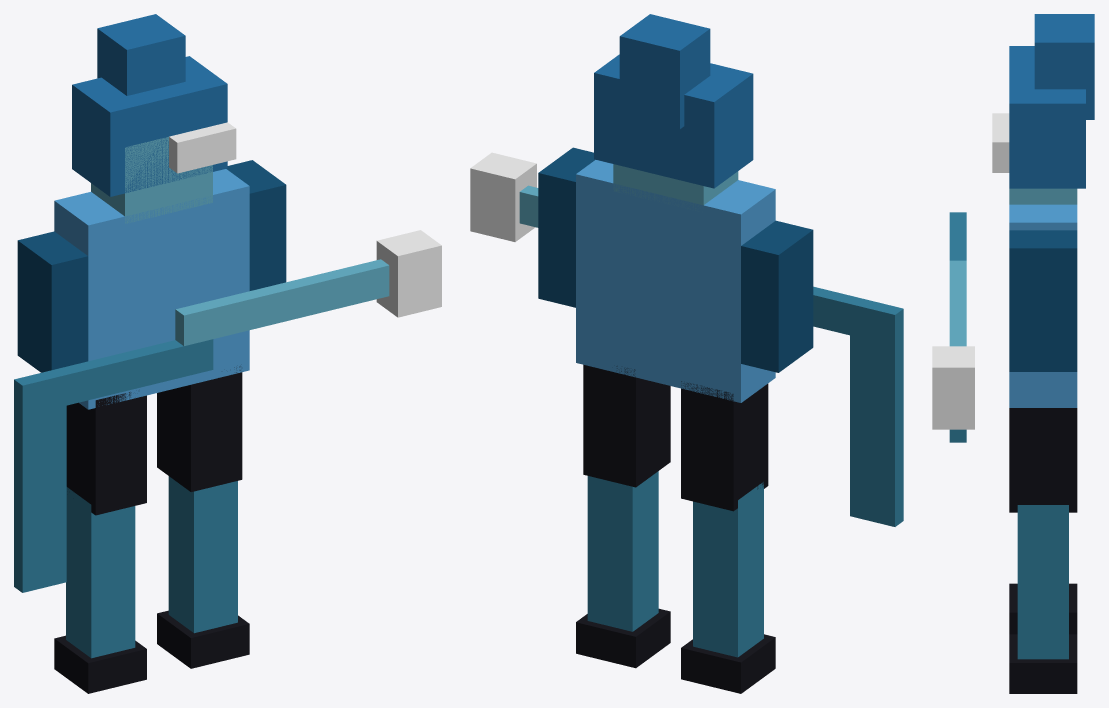
Rendered from archer.gltf.
The picture shows the model from 3 angles, left to right: view 1: azimuth 30°, elevation 25°; view 2: azimuth 150°, elevation 25°; view 3: azimuth 270°, elevation 25°; orthographic projection. The views are drawn at different scales.
Parts seen in each view (by area): view 1: 07_torso, 14_cowl, 02_left_shin, 03_right_shin, 06_rail_brace, 08_left_arm, 05_right_thigh, 04_left_thigh, 11_rail_barrel, 09_rail_breech, 16_cowl_point, 13_head (+5 smaller); view 2: 07_torso, 14_cowl, 02_left_shin, 03_right_shin, 08_left_arm, 06_rail_brace, 04_left_thigh, 05_right_thigh, 16_cowl_point, 10_right_arm, 12_rail_muzzle, 09_rail_breech (+4 smaller); view 3: 10_right_arm, 14_cowl, 03_right_shin, 05_right_thigh, 16_cowl_point, 07_torso, 12_rail_muzzle, 01_right_boot, 11_rail_barrel, 13_head, 15_targeting_monocle, 00_left_boot (+1 smaller).
Part boxes in pixels (<box>): 07_torso: <box>54,169,249,409</box>; 14_cowl: <box>72,56,227,196</box>; 02_left_shin: <box>66,487,135,658</box>; 03_right_shin: <box>168,476,237,633</box>; 06_rail_brace: <box>14,405,66,592</box>; 08_left_arm: <box>17,231,88,372</box>; 05_right_thigh: <box>157,366,242,491</box>; 04_left_thigh: <box>66,392,146,515</box>; 11_rail_barrel: <box>175,259,389,345</box>; 09_rail_breech: <box>14,339,213,416</box>; 16_cowl_point: <box>97,14,185,95</box>; 13_head: <box>91,136,212,223</box>; 07_torso: <box>576,160,775,402</box>; 14_cowl: <box>594,54,753,188</box>; 02_left_shin: <box>693,482,763,657</box>; 03_right_shin: <box>587,471,658,631</box>; 08_left_arm: <box>741,220,813,372</box>; 06_rail_brace: <box>850,335,903,526</box>; 04_left_thigh: <box>681,381,768,511</box>; 05_right_thigh: <box>583,364,670,487</box>; 16_cowl_point: <box>619,14,710,129</box>; 10_right_arm: <box>538,147,595,307</box>; 12_rail_muzzle: <box>470,152,536,241</box>; 09_rail_breech: <box>813,286,903,346</box>; 10_right_arm: <box>1009,230,1077,371</box>; 14_cowl: <box>1009,46,1085,188</box>; 03_right_shin: <box>1017,505,1068,659</box>; 05_right_thigh: <box>1009,408,1077,512</box>; 16_cowl_point: <box>1034,14,1094,119</box>; 07_torso: <box>1009,204,1077,407</box>; 12_rail_muzzle: <box>932,346,974,429</box>; 01_right_boot: <box>1009,634,1077,693</box>; 11_rail_barrel: <box>949,260,966,346</box>; 13_head: <box>1009,188,1077,204</box>; 15_targeting_monocle: <box>992,113,1009,172</box>; 00_left_boot: <box>1009,583,1077,634</box>.
Size of the model in its own units: 0.875 by 1.27 by 0.2969.
